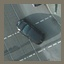car: (14, 17, 46, 44)
